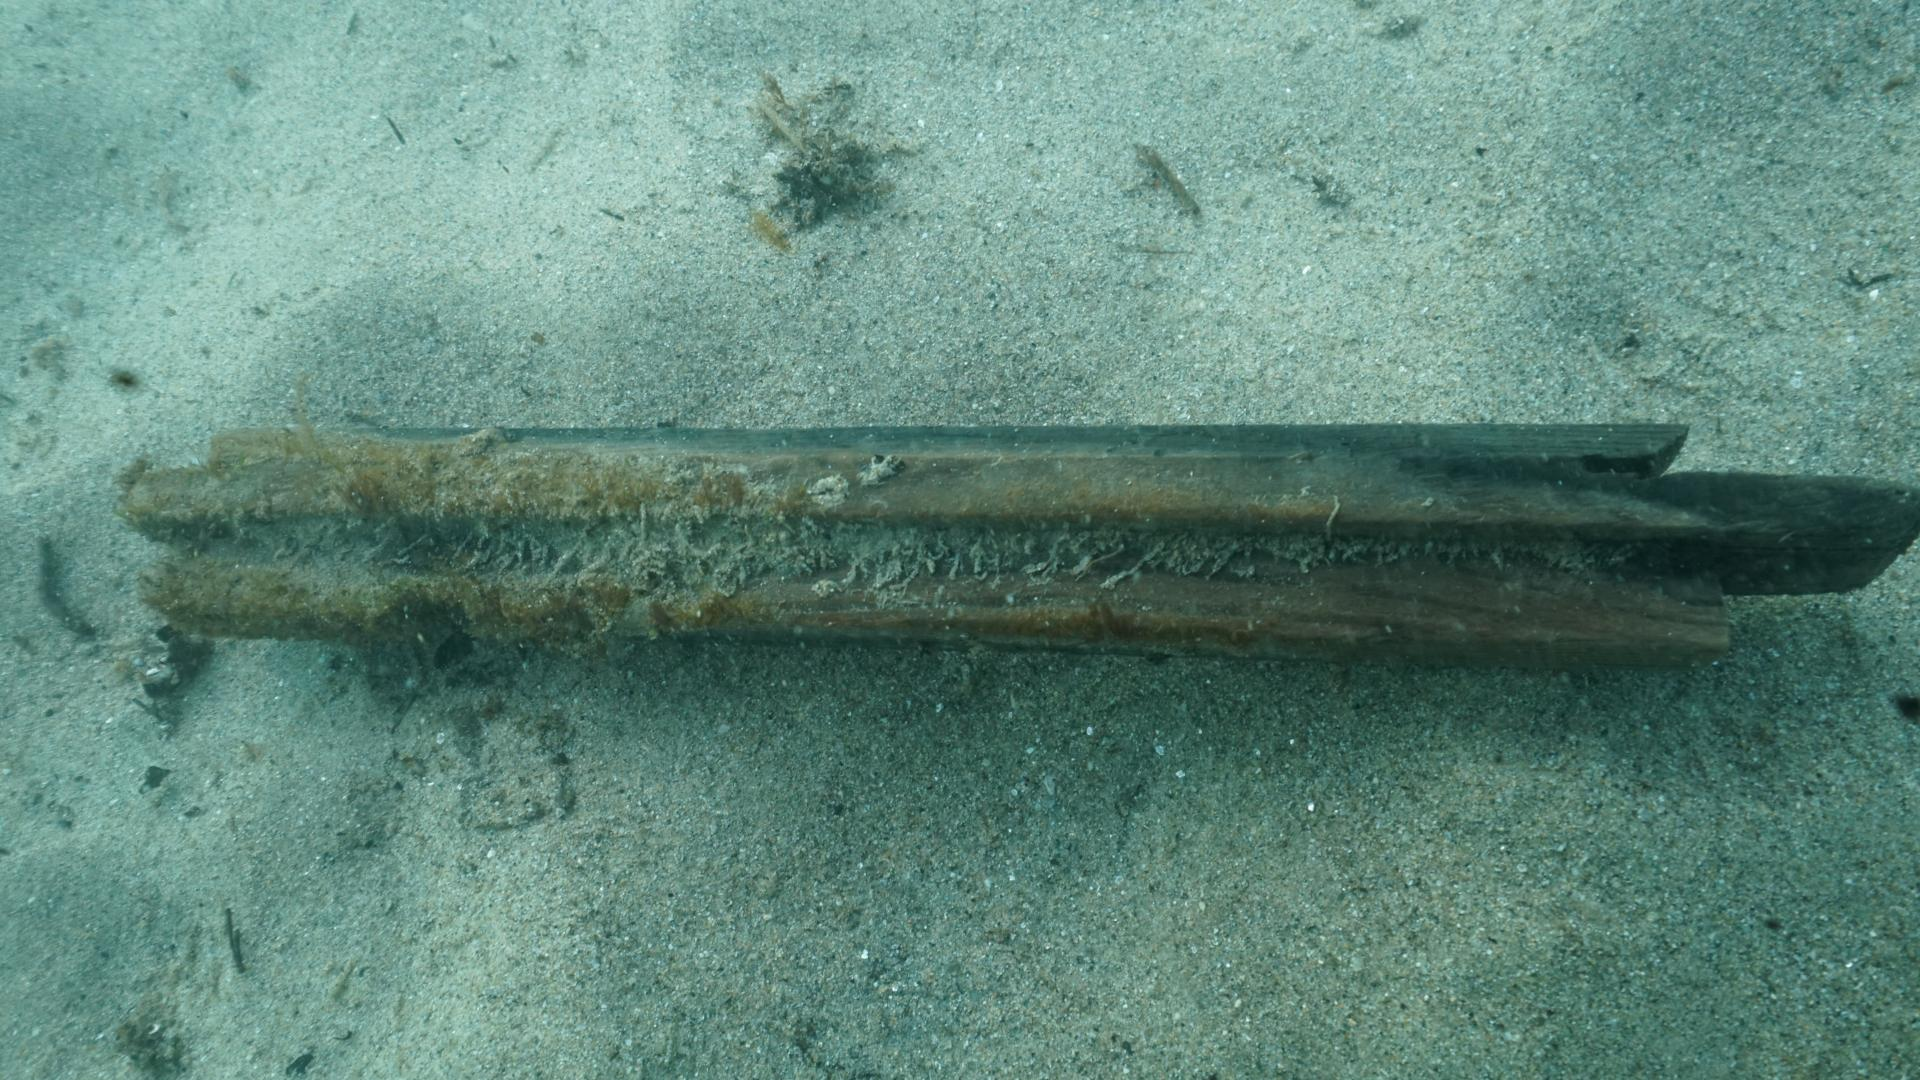wood: (109, 419, 1920, 662)
